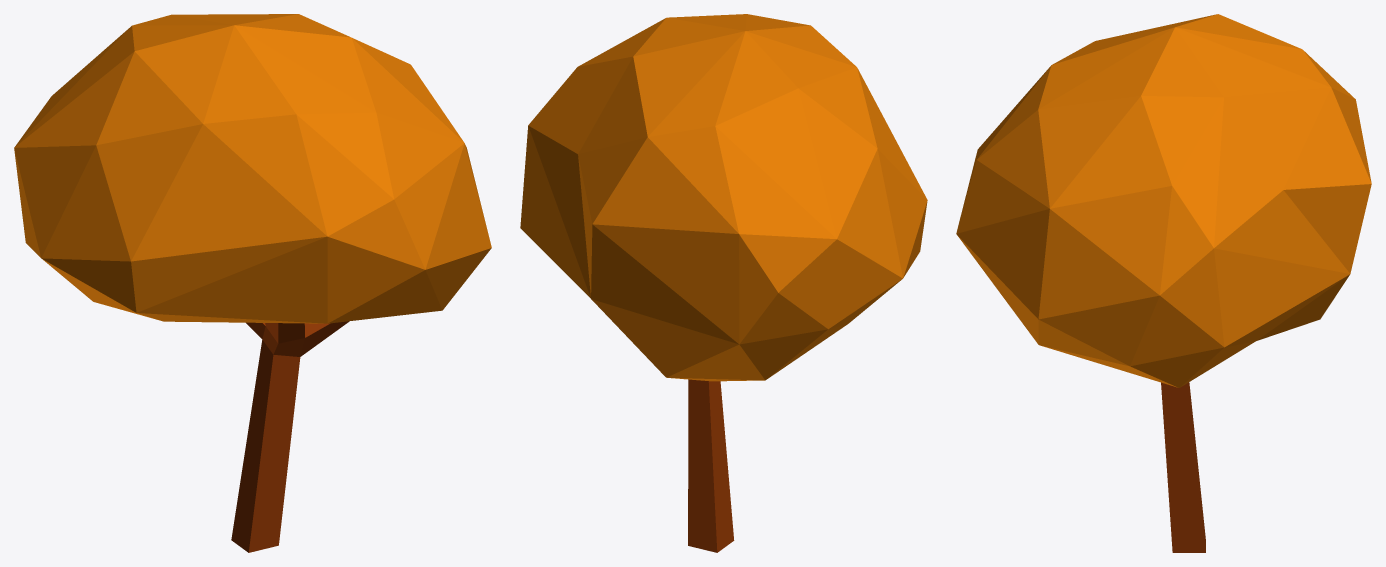
Rendered from tree3.fbx.
The picture shows the model from 3 angles, left to right: view 1: azimuth 30°, elevation 25°; view 2: azimuth 150°, elevation 25°; view 3: azimuth 270°, elevation 25°; orthographic projection. The views are drawn at different scales.
Visible parts, largest first — view 1: Cube; view 2: Cube; view 3: Cube.
Part boxes in pixels (x1,y1,x2,y2): Cube: (14, 14, 491, 552); Cube: (520, 14, 927, 552); Cube: (956, 14, 1371, 552).
Bounding box in the file's own units: 704 × 886 × 660.
